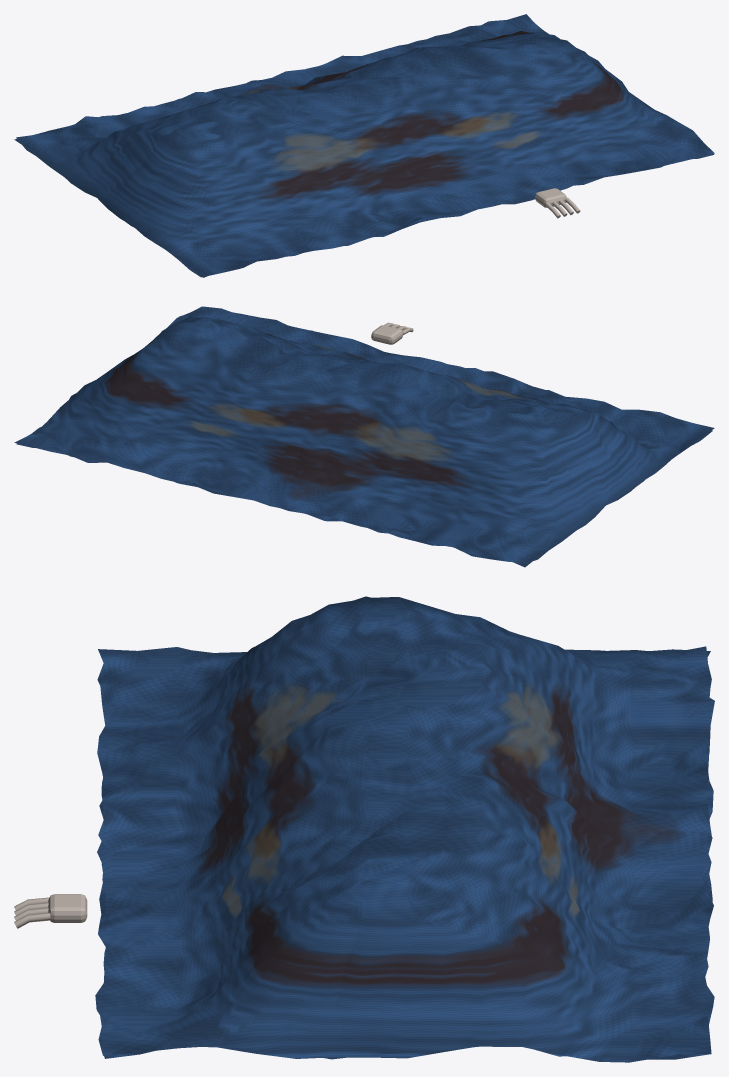
Rendered from tarp_shape.glb.
The picture shows the model from 3 angles, top to bottom: view 1: azimuth 30°, elevation 25°; view 2: azimuth 150°, elevation 25°; view 3: azimuth 270°, elevation 25°; orthographic projection. The views are drawn at different scales.
Visible parts, largest first — view 1: tarp_shape; view 2: tarp_shape; view 3: tarp_shape.
Boxes of the visible parts, x1,y1,x2,y2 form: tarp_shape: (14,14,714,277); tarp_shape: (14,306,714,567); tarp_shape: (14,596,714,1062).
Size of the model in its own units: 2.21 by 0.2912 by 1.62.
2 materials, 1 textured.
